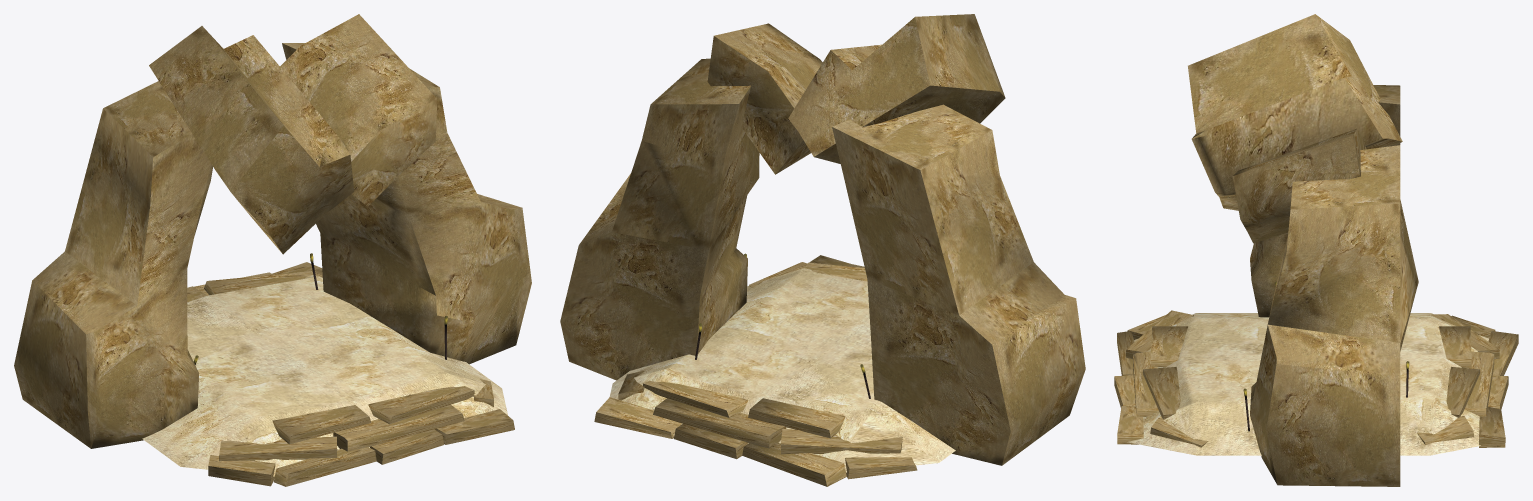
Rendered from tunnelcap_cave_exterior.fbx.
3 renders of one model, left to right at view 1: azimuth 30°, elevation 25°; view 2: azimuth 150°, elevation 25°; view 3: azimuth 270°, elevation 25°, orthographic. The views are drawn at different scales.
Visible parts, largest first — view 1: columnL, floor2, columnR, top_big1, topSmall, pCube4.001, pCube7.001, pCube9.001, pCube8.001, pCube3.001, pCube1.001, pCube6.001 (+2 smaller); view 2: columnL, columnR, floor2, top_big1, topSmall, pCube4, pCube3, pCube9, pCube7, pCube1, pCube8, pCube2 (+2 smaller); view 3: columnR, top_big1, floor2, topSmall, columnL, pCube8.001, pCube9.001, pCube4, pCube8, pCube9, pCube4.001, pCube1 (+9 smaller).
Boxes of the visible parts, x1=… form: columnL: x1=14, y1=81, x2=212, y2=448; floor2: x1=142, y1=275, x2=507, y2=476; columnR: x1=282, y1=43, x2=531, y2=364; top_big1: x1=149, y1=26, x2=354, y2=254; topSmall: x1=280, y1=14, x2=437, y2=206; pCube4.001: x1=333, y1=404, x2=464, y2=451; pCube7.001: x1=219, y1=436, x2=337, y2=461; pCube9.001: x1=272, y1=405, x2=371, y2=444; pCube8.001: x1=368, y1=386, x2=474, y2=424; pCube3.001: x1=274, y1=447, x2=376, y2=486; pCube1.001: x1=435, y1=409, x2=514, y2=444; pCube6.001: x1=208, y1=455, x2=275, y2=486; columnL: x1=832, y1=104, x2=1085, y2=465; columnR: x1=560, y1=58, x2=759, y2=380; floor2: x1=609, y1=268, x2=955, y2=472; top_big1: x1=788, y1=14, x2=1005, y2=163; topSmall: x1=707, y1=23, x2=822, y2=174; pCube4: x1=653, y1=398, x2=786, y2=448; pCube3: x1=742, y1=443, x2=846, y2=486; pCube9: x1=748, y1=398, x2=845, y2=438; pCube7: x1=781, y1=429, x2=902, y2=454; pCube1: x1=594, y1=397, x2=681, y2=438; pCube8: x1=643, y1=380, x2=748, y2=417; pCube2: x1=674, y1=423, x2=747, y2=459; columnR: x1=1250, y1=145, x2=1418, y2=486; top_big1: x1=1188, y1=14, x2=1402, y2=210; floor2: x1=1127, y1=313, x2=1488, y2=455; topSmall: x1=1232, y1=128, x2=1366, y2=243; columnL: x1=1250, y1=85, x2=1400, y2=317; pCube8.001: x1=1143, y1=366, x2=1180, y2=419; pCube9.001: x1=1150, y1=326, x2=1187, y2=367; pCube4: x1=1464, y1=351, x2=1494, y2=416; pCube8: x1=1446, y1=366, x2=1479, y2=417; pCube9: x1=1439, y1=326, x2=1471, y2=367; pCube4.001: x1=1133, y1=351, x2=1158, y2=416; pCube1: x1=1479, y1=406, x2=1505, y2=447.
Bounding box in the file's own units: 6078 × 5034 × 5279.
Materials: 3 (3 with a texture image).
